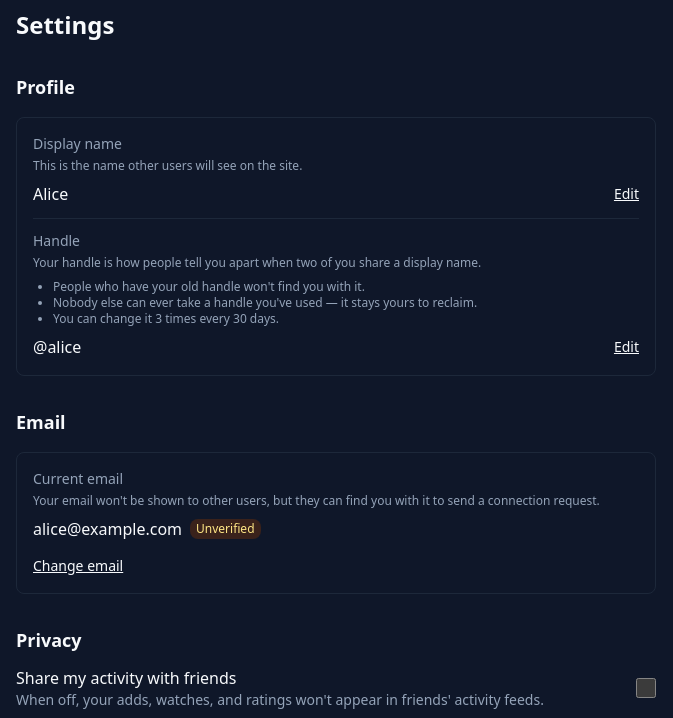
Test: SettingsPage › renders the current display name and reveals the editor on Edit
Check: the text "Alice" is shown, box x1=33 y1=182 x2=68 y2=206
Click the button with aria-label "edit display name" at (626, 194), box x1=614 y1=184 x2=639 y2=204
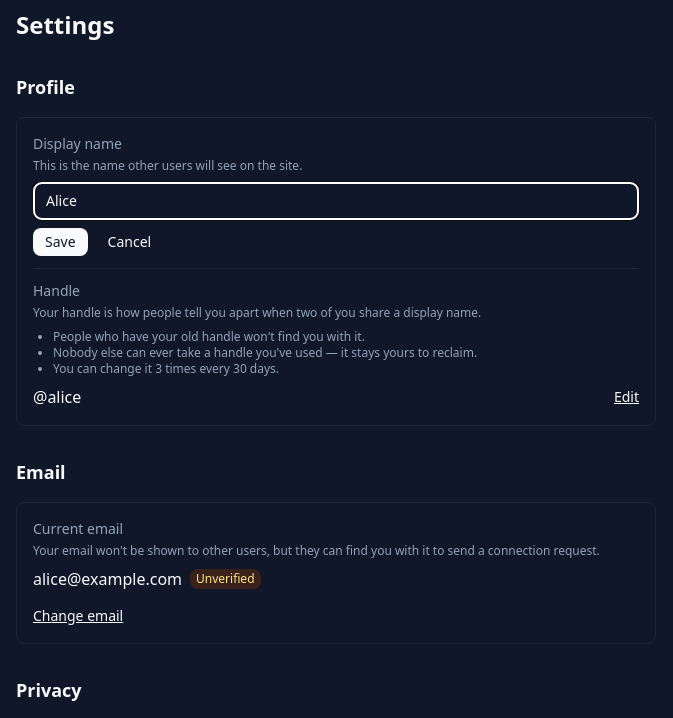
Check: the field named "display name" holds "Alice", box x1=33 y1=182 x2=639 y2=220
